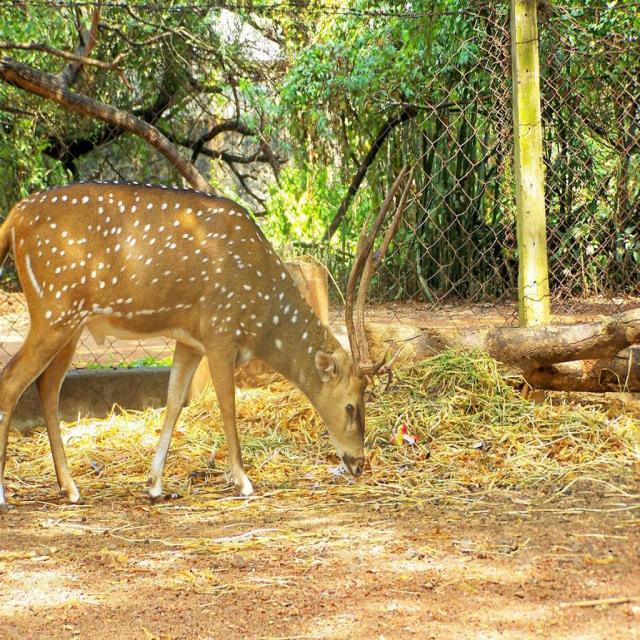Deer: (0, 159, 416, 503)
